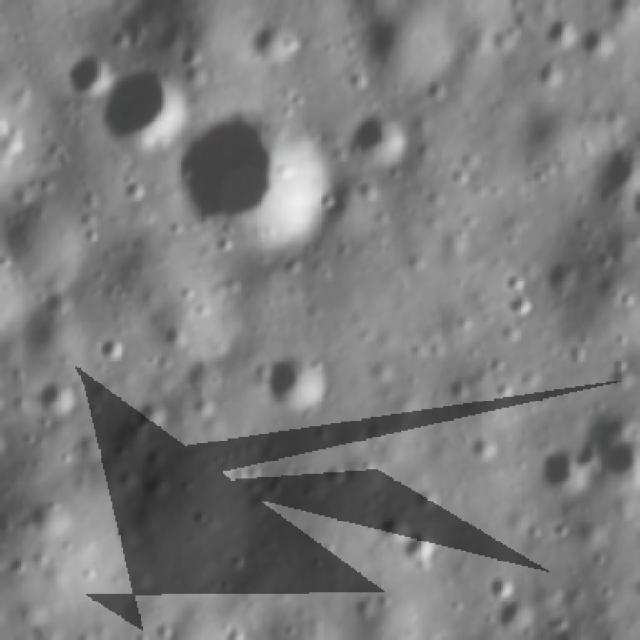crater: (174, 106, 340, 254), (0, 194, 97, 304), (0, 290, 95, 389), (348, 5, 450, 84), (102, 64, 192, 150), (264, 344, 336, 416), (347, 109, 415, 169), (591, 411, 640, 491), (243, 13, 311, 65), (591, 141, 640, 202), (539, 444, 584, 502), (74, 48, 118, 98), (533, 12, 582, 53), (36, 378, 81, 420), (402, 526, 446, 568), (579, 19, 613, 62), (371, 504, 406, 544), (502, 291, 538, 327), (0, 413, 22, 470), (535, 54, 567, 92), (485, 574, 520, 606), (119, 172, 148, 206), (606, 0, 639, 29), (626, 182, 640, 222), (629, 568, 640, 607), (634, 512, 640, 576)
